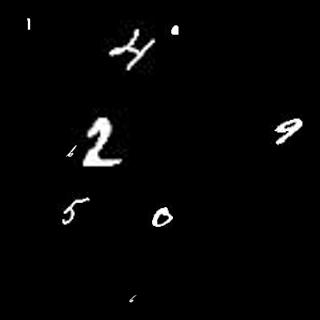dot: (164, 25, 180, 43)
five: (60, 193, 91, 229)
four: (110, 26, 155, 72)
nine: (274, 111, 309, 153)
one: (25, 16, 32, 32)
six: (63, 140, 78, 158), (126, 291, 140, 304)
two: (79, 115, 127, 171)
zero: (145, 204, 174, 234)
